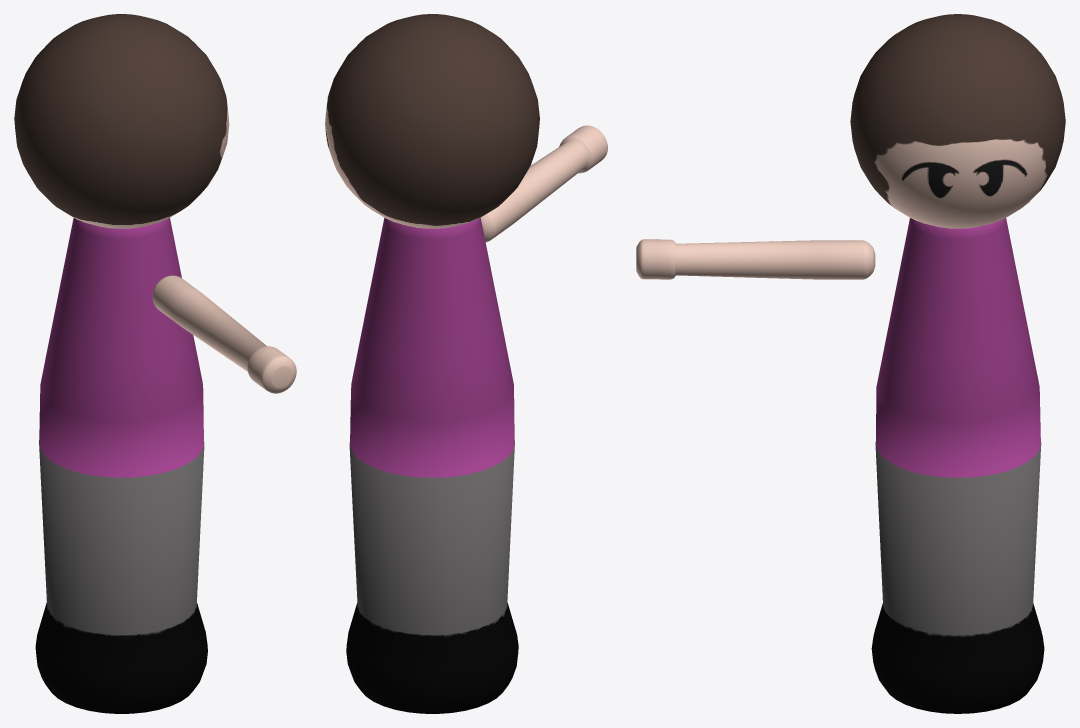
Rendered from player_v2.glb.
3 renders of one model, left to right at view 1: azimuth 30°, elevation 25°; view 2: azimuth 150°, elevation 25°; view 3: azimuth 270°, elevation 25°, orthographic.
Visible parts, largest first — view 1: Body, Head, Arm; view 2: Body, Head, Arm; view 3: Body, Head, Arm.
Part boxes in pixels (left/top/right/bottom): Body: left=35, top=218, right=207, bottom=713; Head: left=14, top=14, right=229, bottom=228; Arm: left=152, top=275, right=296, bottom=393; Body: left=346, top=218, right=518, bottom=713; Head: left=325, top=14, right=539, bottom=228; Arm: left=480, top=125, right=607, bottom=242; Body: left=871, top=218, right=1044, bottom=713; Head: left=850, top=14, right=1065, bottom=228; Arm: left=636, top=239, right=875, bottom=279.
Bounding box in the file's own units: 0.3116 × 1.05 × 0.6214.
3 materials, 3 textured.
